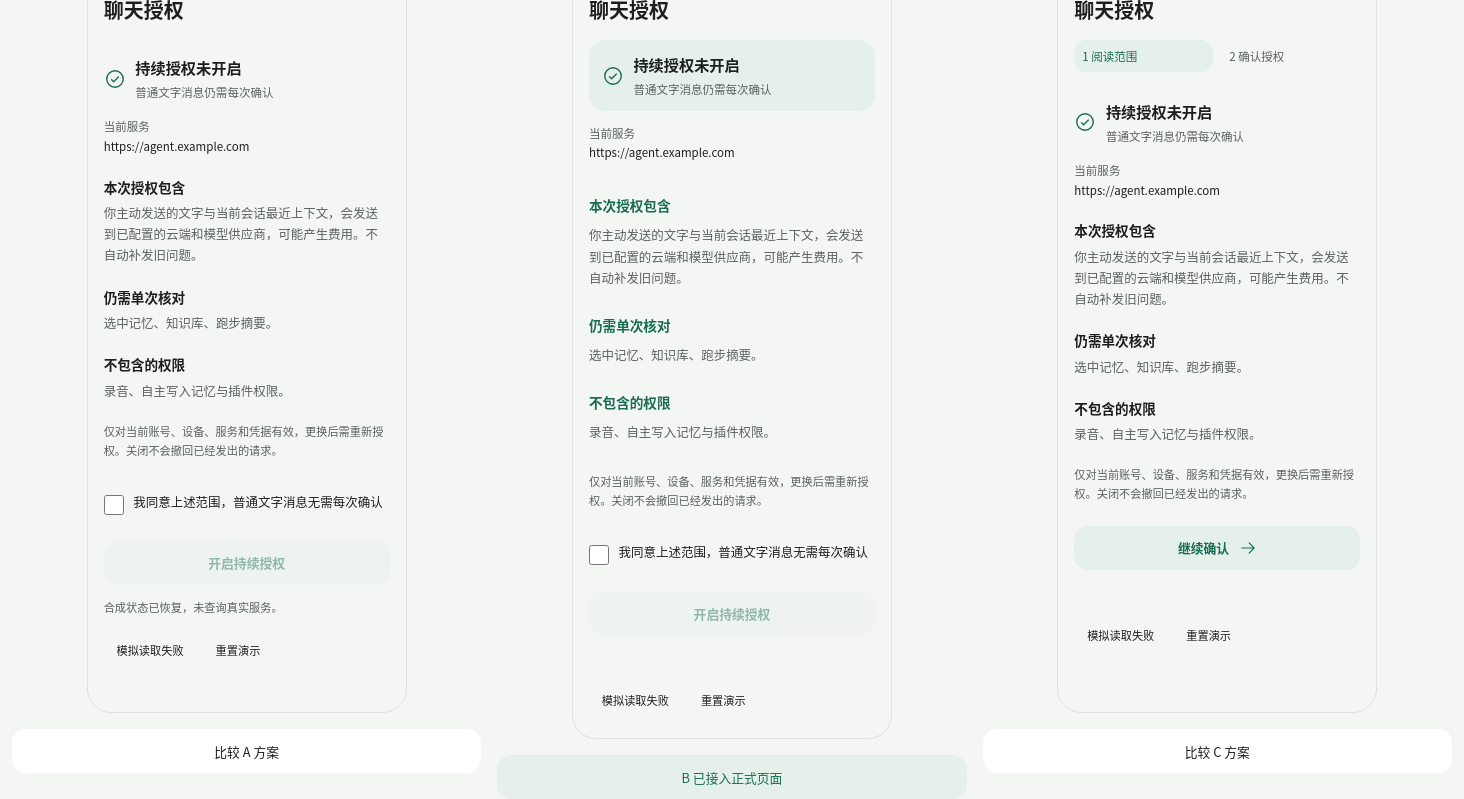
Scenario: 三案不预选同意，演示开启关闭与读取失败，不触及真实权限
Earlier steps of the test are not shown.
Later steps or results of the test are not shown.
(page scrolled)
Check: the message "无法读取授权状态 不会自动重试，也不会提交授权更改。 重新读取" is not shown
Check: the 2nd button "开启持续授权" is disabled, box x1=589 y1=591 x2=875 y2=635
Click the 2nd checkbox labelled "我同意上述范围，普通文字消息无需每次确认". click: (599, 556)
box: x1=589 y1=546 x2=609 y2=566
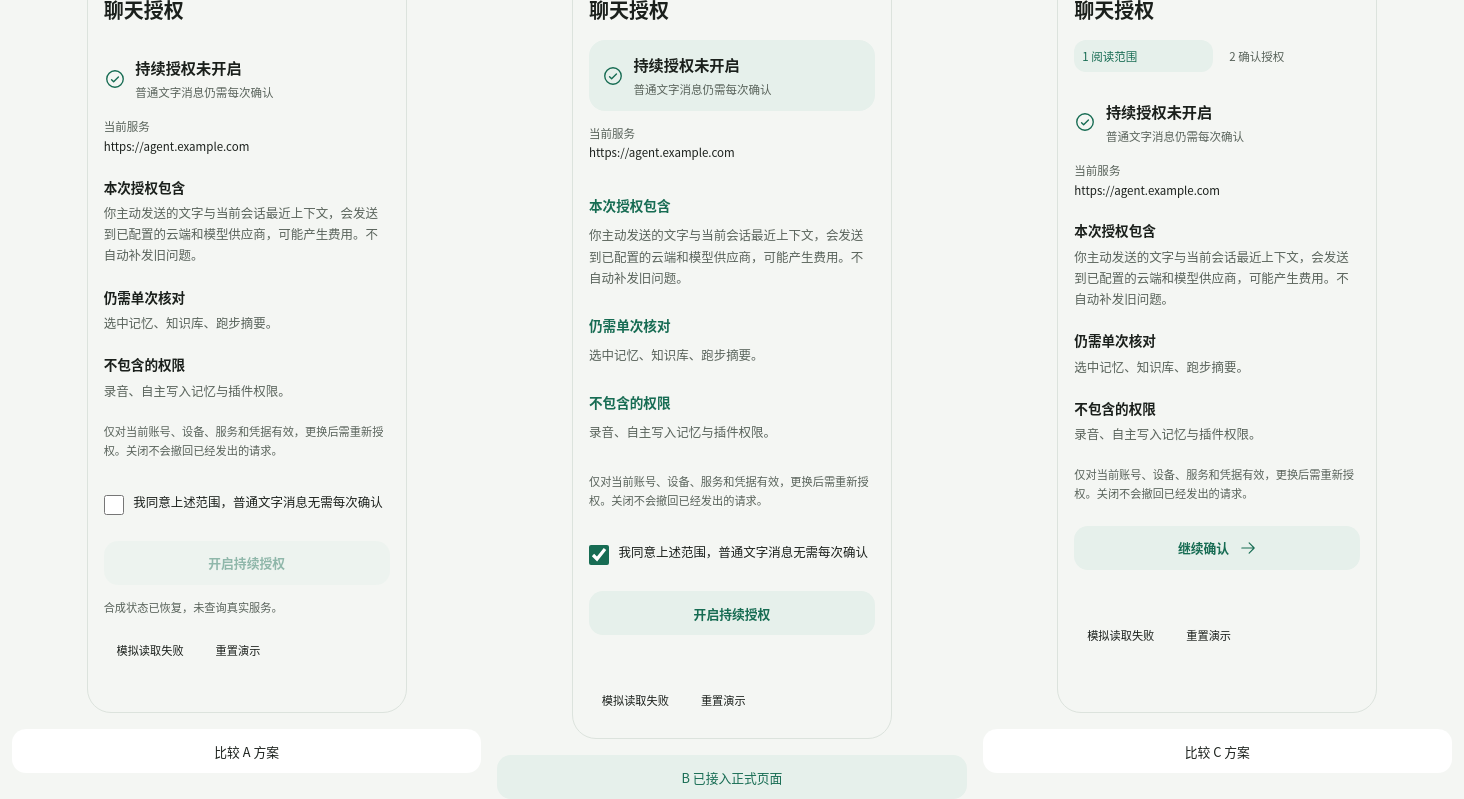
Click the 2nd button "开启持续授权". click: (732, 613)
box: x1=589 y1=591 x2=875 y2=635
(page scrolled)
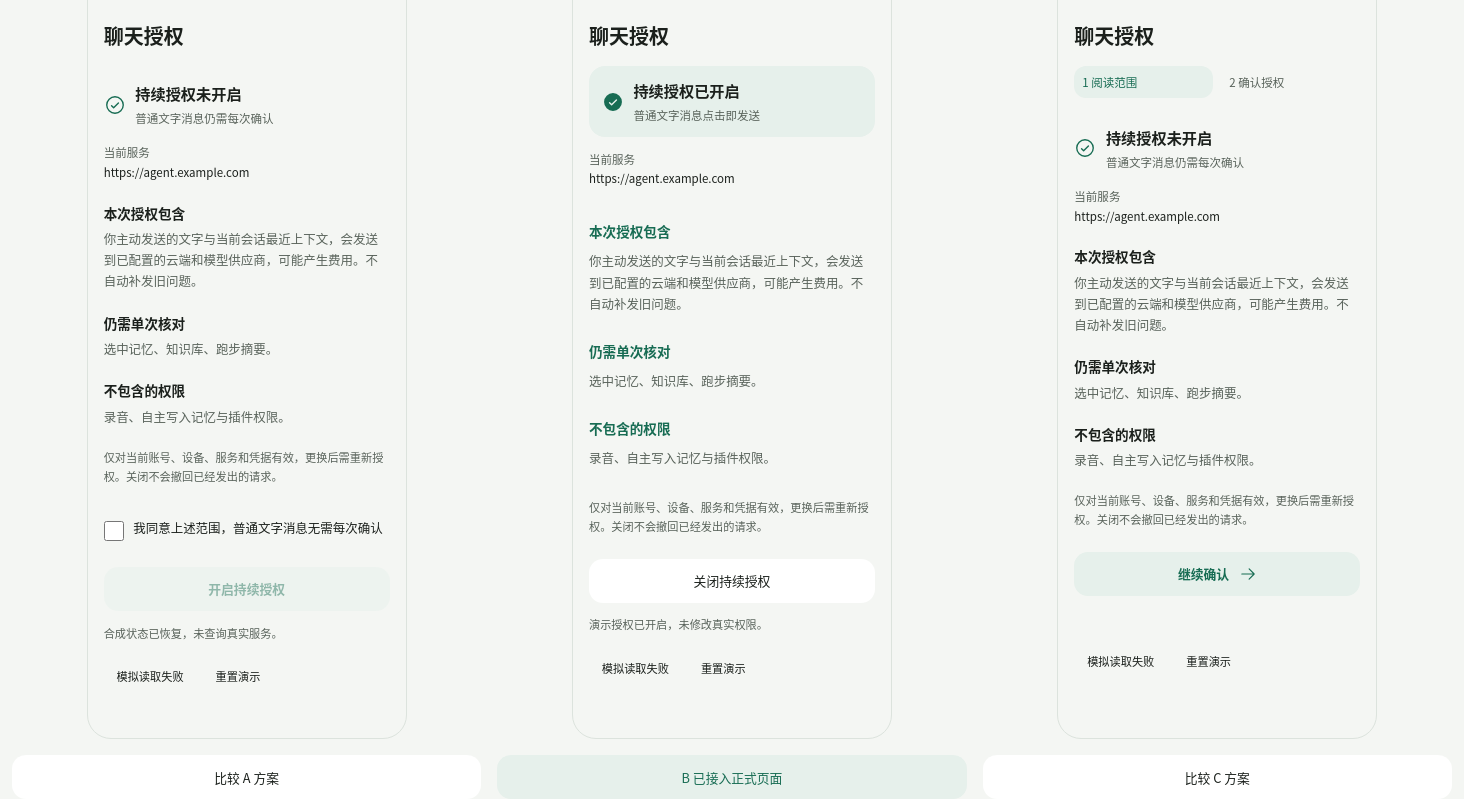
Check: the text "持续授权已开启" is shown, box x1=633 y1=79 x2=740 y2=101
Check: the message "演示授权已开启，未修改真实权限。" is shown, box x1=589 y1=616 x2=768 y2=632
Click the button "关闭持续授权". click: (732, 581)
box: x1=589 y1=559 x2=875 y2=603
(page scrolled)
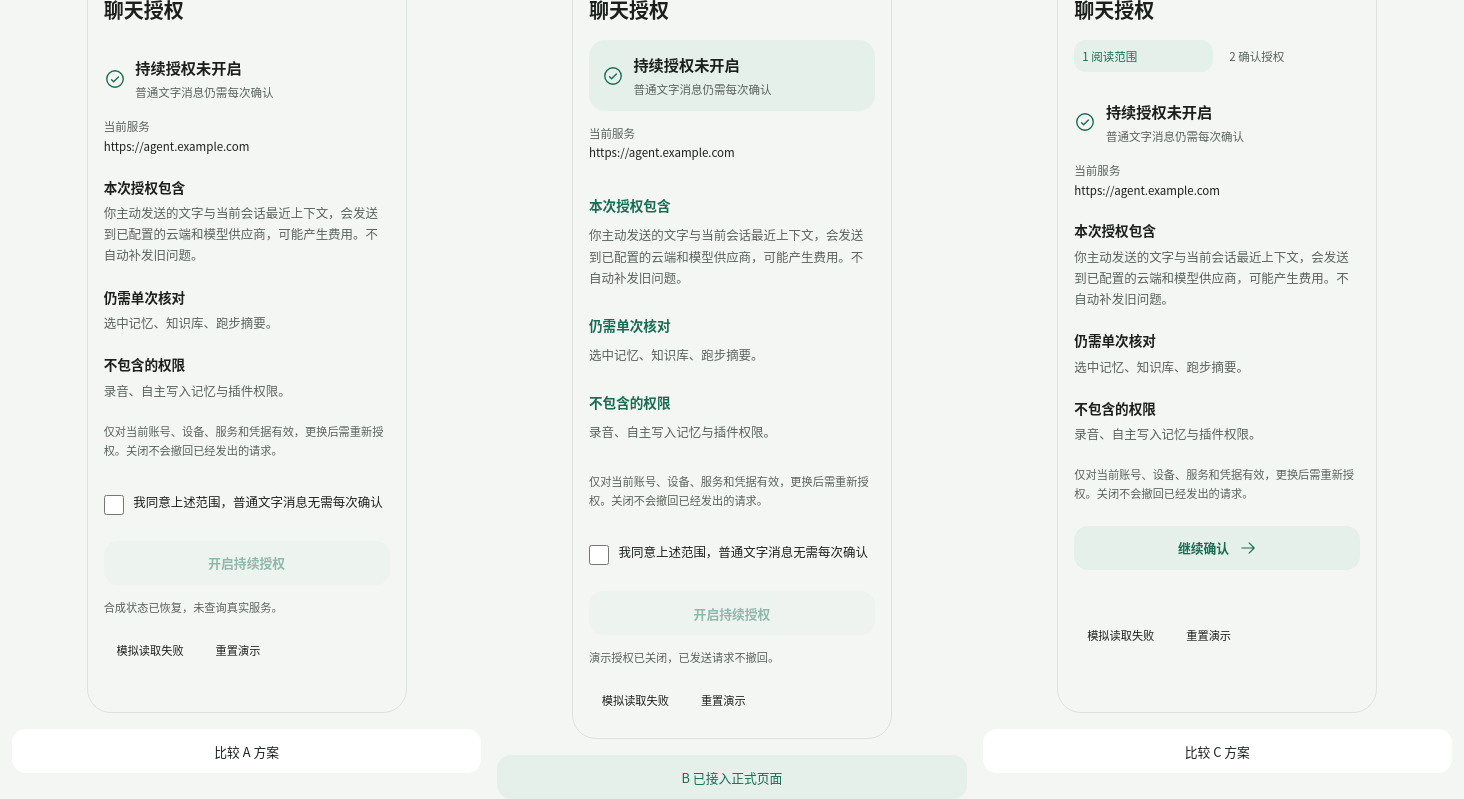
Check: the 2nd checkbox labelled "我同意上述范围，普通文字消息无需每次确认" is not checked, box x1=589 y1=546 x2=609 y2=566
Click the button "模拟读取失败" below "演示授权已关闭，已发送请求不撤回。". click: (635, 700)
box: x1=589 y1=678 x2=682 y2=722
(page scrolled)
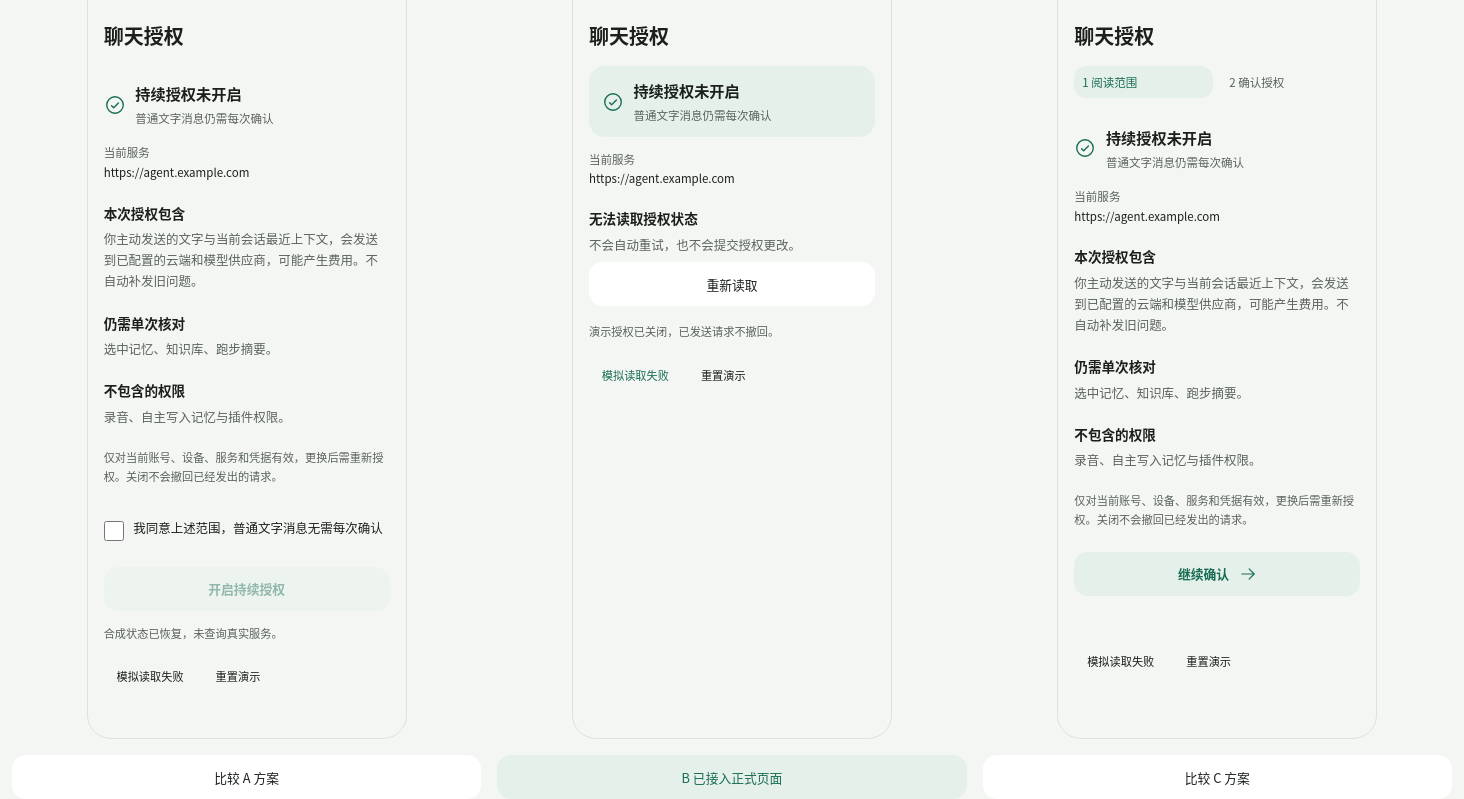
Check: the message "无法读取授权状态 不会自动重试，也不会提交授权更改。 重新读取" is shown, box x1=589 y1=208 x2=875 y2=306
Click the button "重新读取". click: (732, 284)
box: x1=589 y1=262 x2=875 y2=306
(page scrolled)
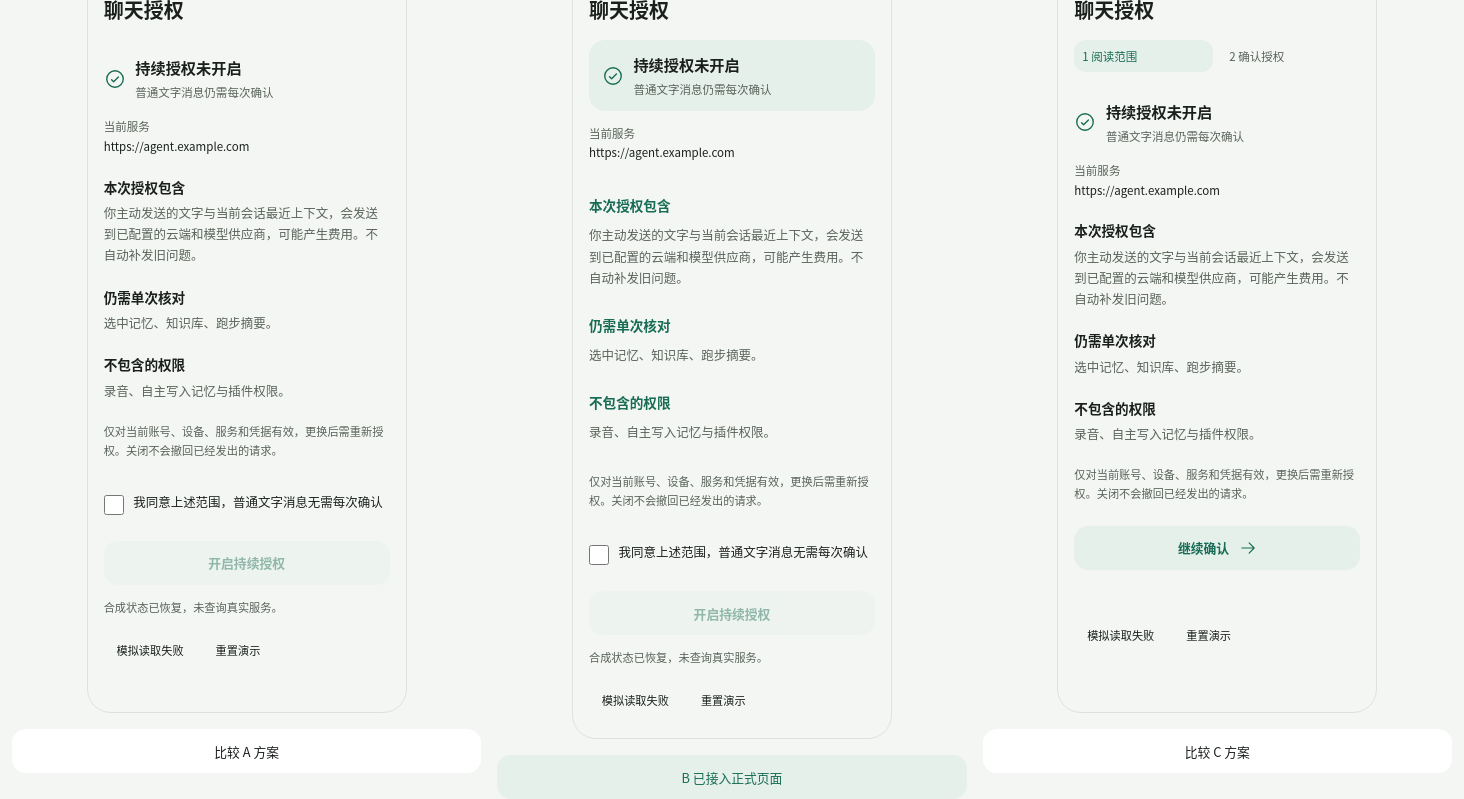
Check: the message "无法读取授权状态 不会自动重试，也不会提交授权更改。 重新读取" is gone
Click the button "继续确认". click: (1217, 548)
box: x1=1074 y1=526 x2=1360 y2=570
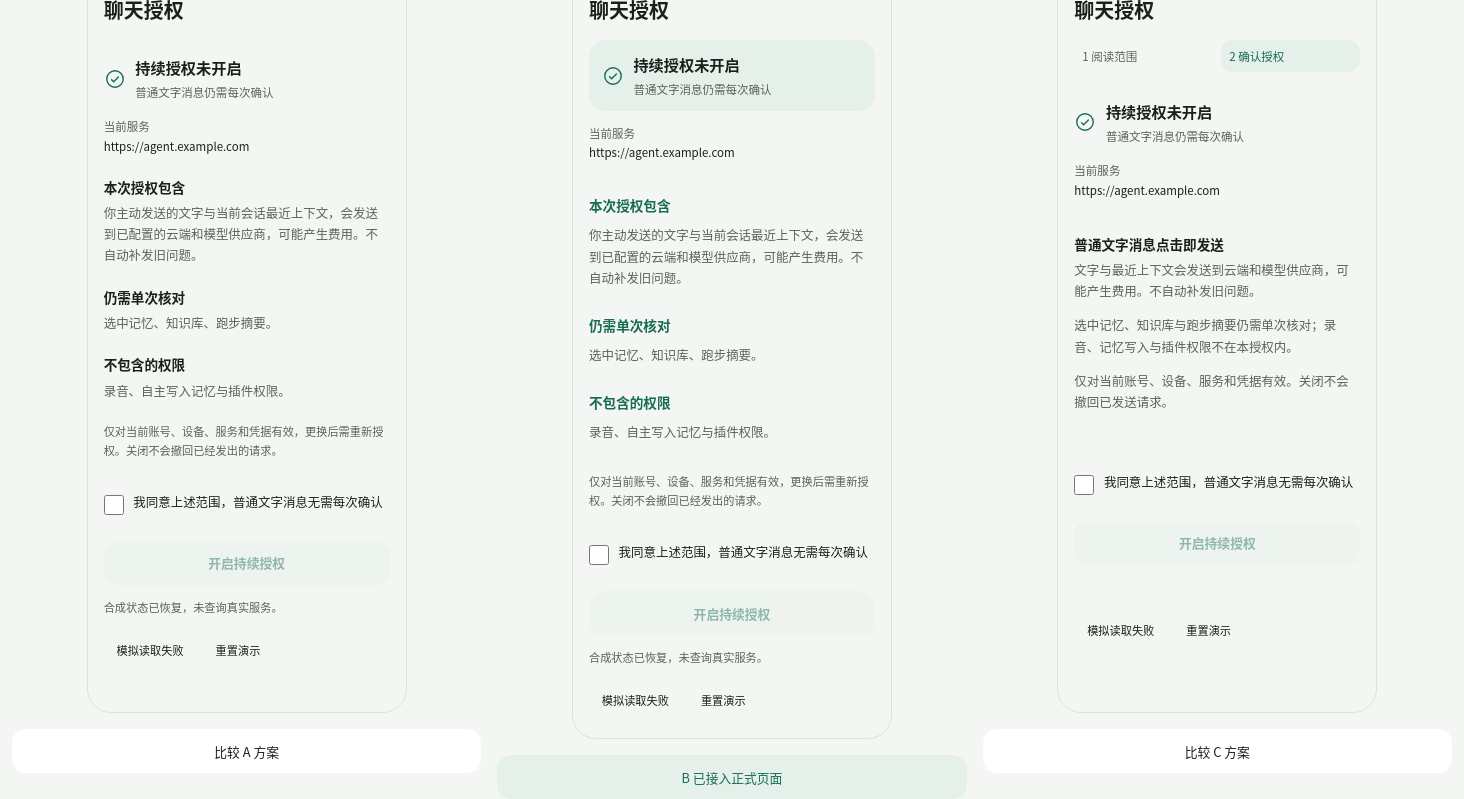
Check: the checkbox labelled "我同意上述范围，普通文字消息无需每次确认" below "仅对当前账号、设备、服务和凭据有效。关闭不会撤回已发送请求。" is not checked, box x1=1074 y1=475 x2=1094 y2=495
Check: the button "开启持续授权" below "仅对当前账号、设备、服务和凭据有效。关闭不会撤回已发送请求。" is disabled, box x1=1074 y1=521 x2=1360 y2=565
